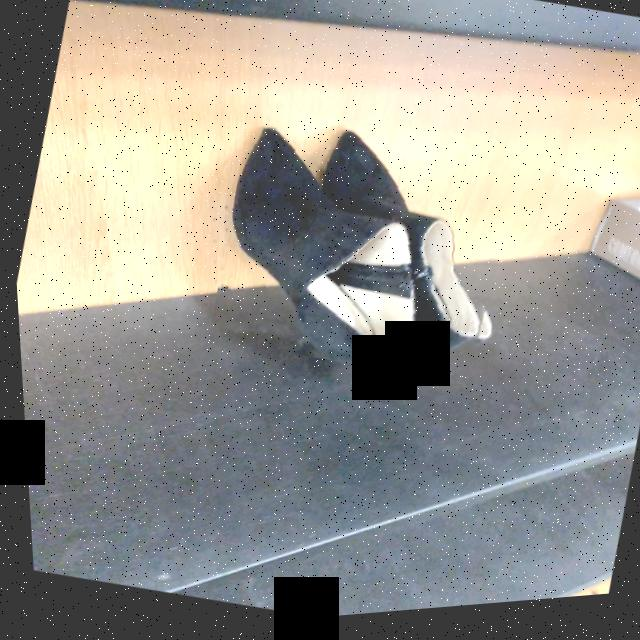shoe: (228, 132, 421, 376), (292, 137, 478, 370)
